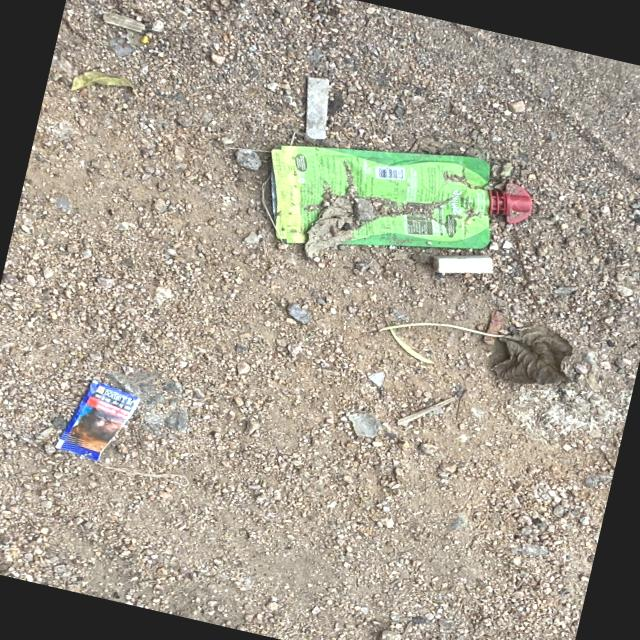giay_goi: (53, 380, 138, 461)
goi_nhua_nho: (270, 145, 532, 255)
rac_huu_co: (492, 324, 572, 384)
